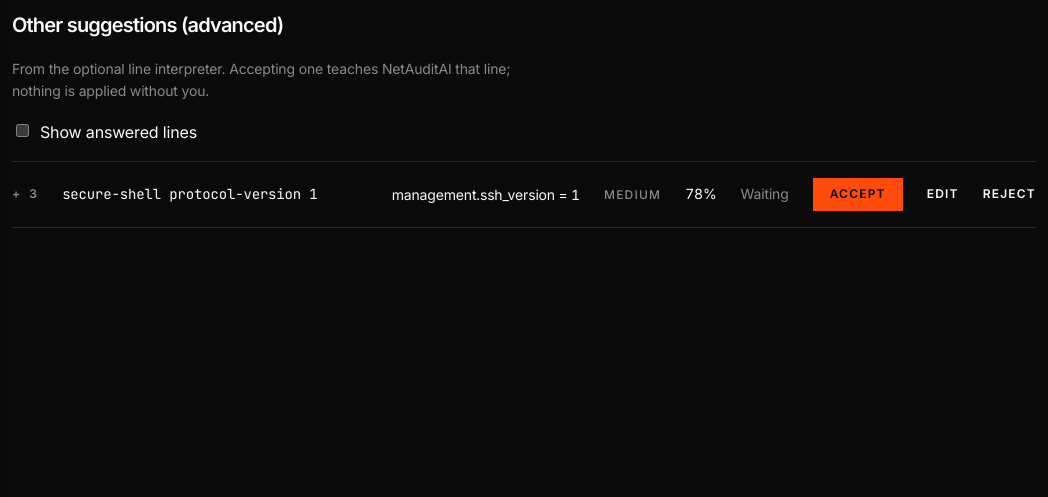
renders suggestion, confidence and context
The width and height of the screenshot is (1048, 497).
Expected: the text "secure-shell protocol-version 1" is shown, x1=62 y1=185 x2=318 y2=203
Expected: the text "management.ssh_version = 1" is shown, x1=392 y1=186 x2=580 y2=203
Click the button named "Toggle details for line 3" at (25, 195), box x1=12 y1=179 x2=38 y2=211
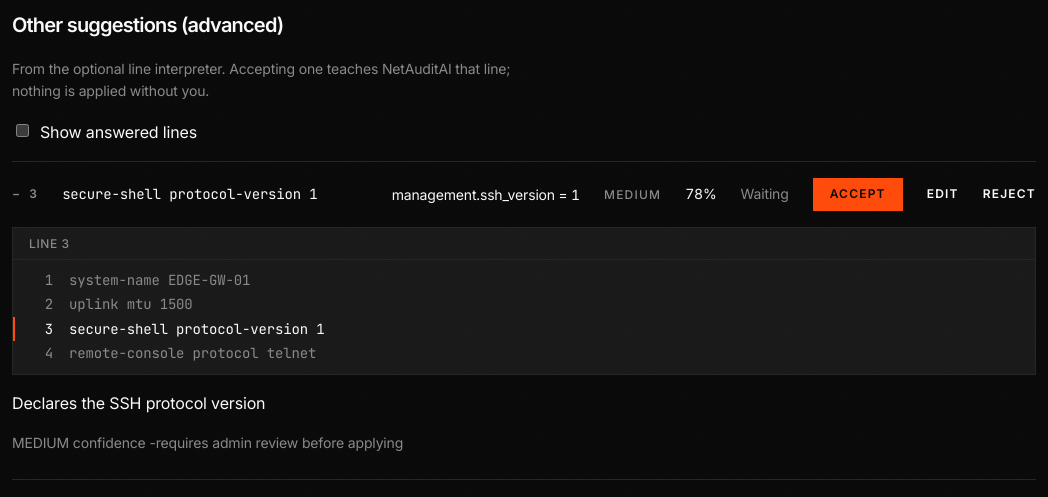
Now the text "Declares the SSH protocol version" is shown, box x1=12 y1=393 x2=265 y2=413
Now the text "uplink mtu 1500" is shown, box x1=69 y1=295 x2=193 y2=313
